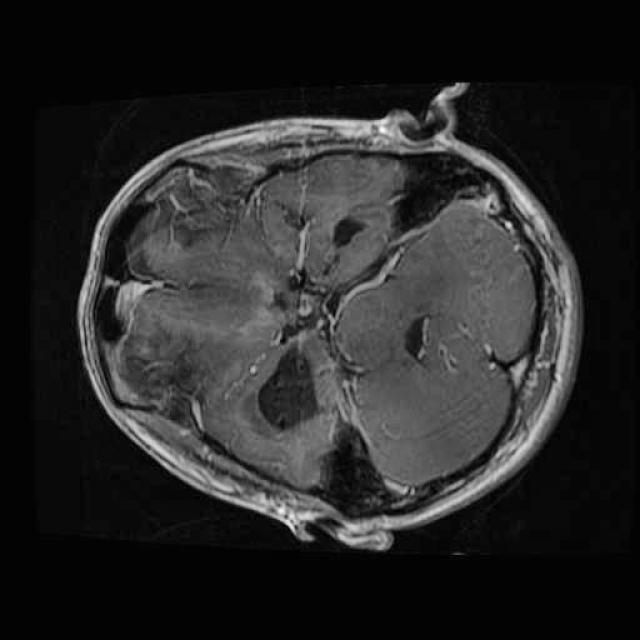Tumor: (246, 328, 339, 444)
